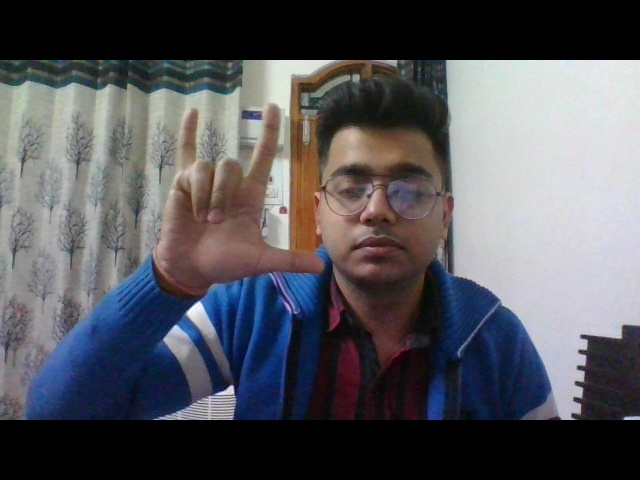ILoveYou: (155, 101, 344, 298)
